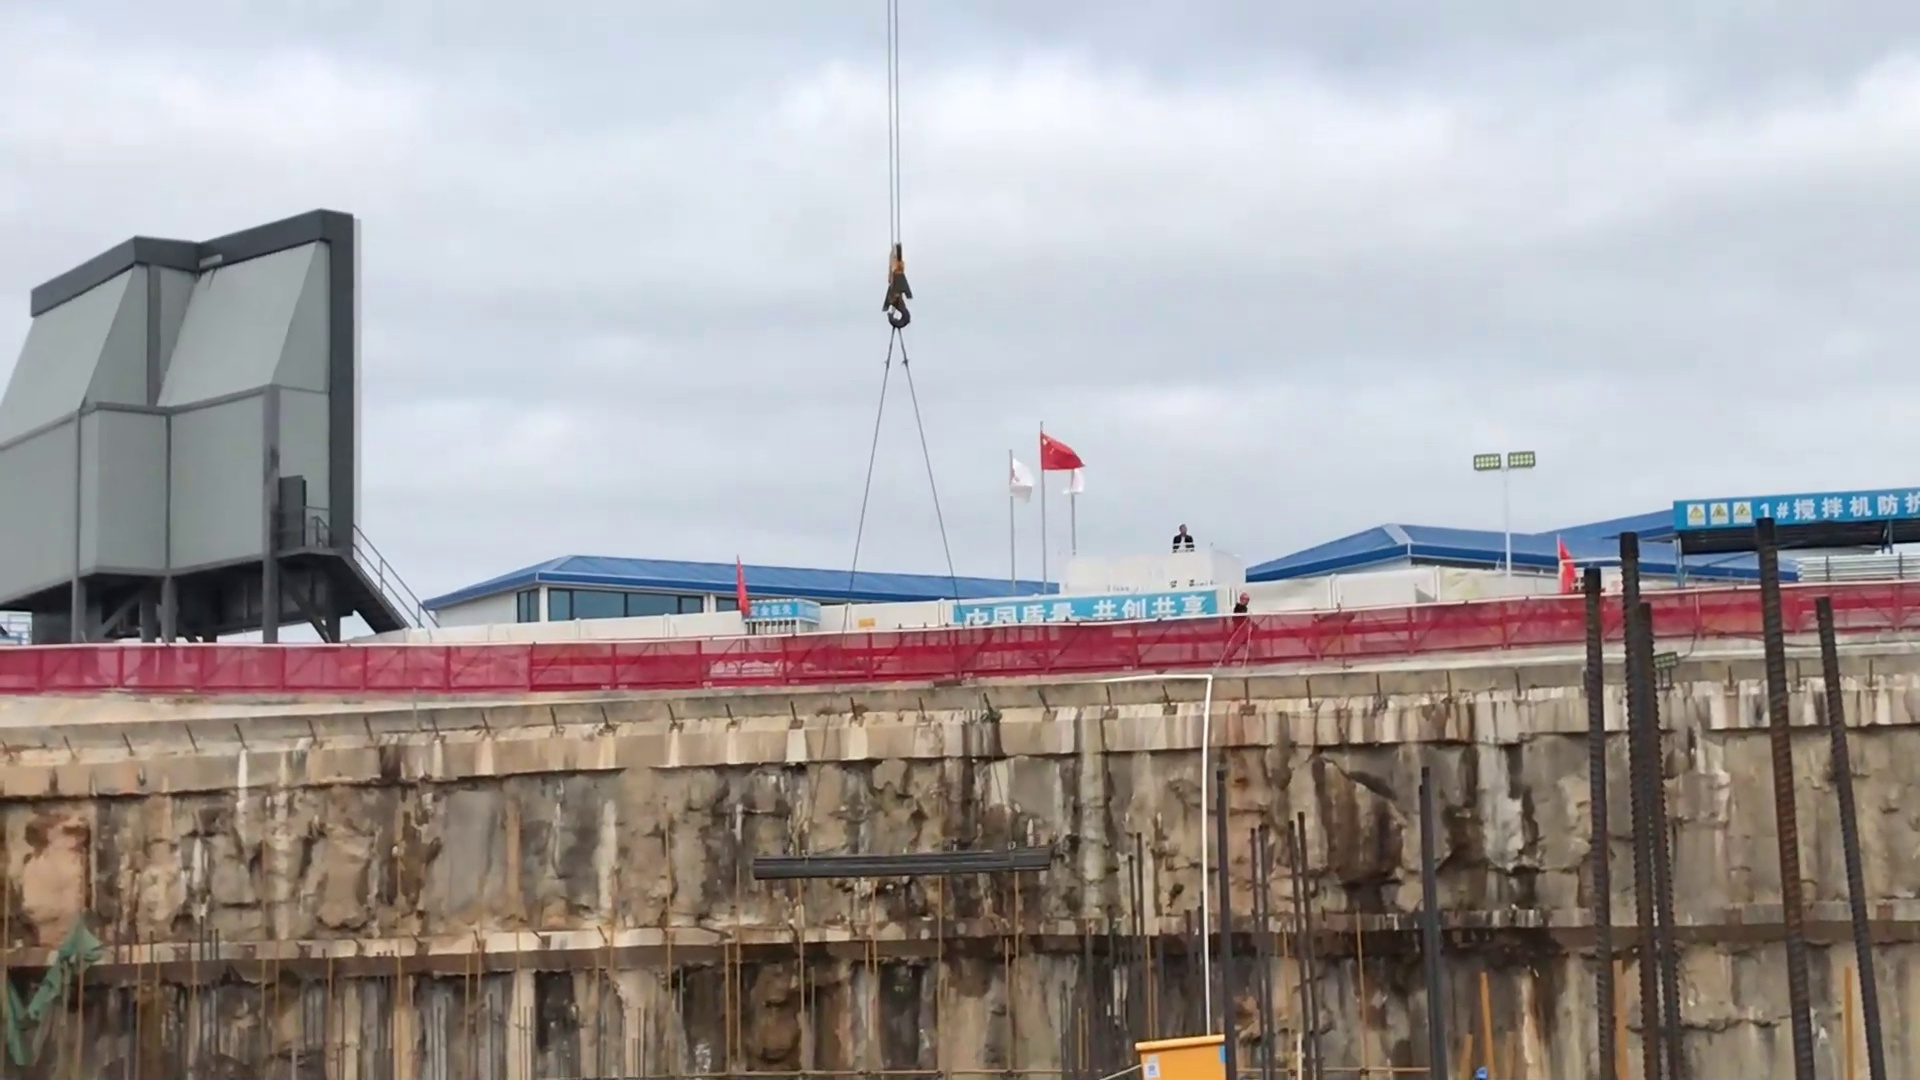ebox: (1131, 1017, 1238, 1080)
fence: (1, 568, 1915, 711)
hook: (866, 240, 934, 343)
rebar: (746, 840, 1065, 890)
slogan: (949, 585, 1222, 629)
